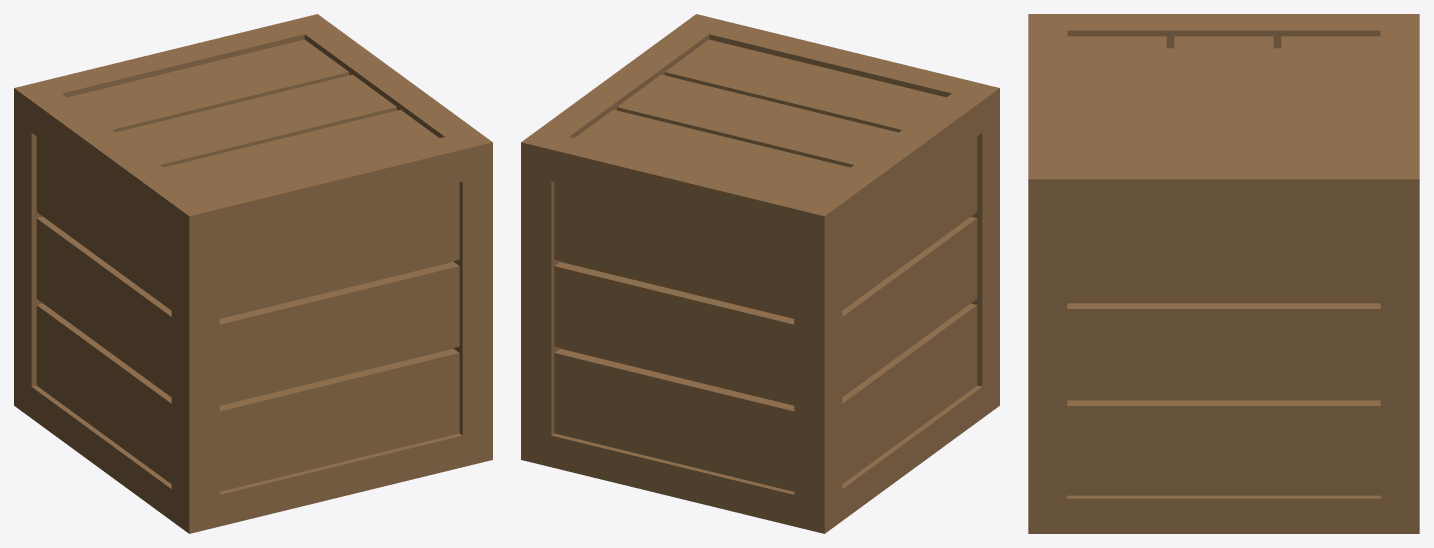
File: crate.glb
The picture shows the model from 3 angles, left to right: view 1: azimuth 30°, elevation 25°; view 2: azimuth 150°, elevation 25°; view 3: azimuth 270°, elevation 25°; orthographic projection. The views are drawn at different scales.
Parts seen in each view (by area): view 1: Crate; view 2: Crate; view 3: Crate.
Boxes of the visible parts, x1,y1,x2,y2 form: Crate: (14, 14, 492, 533); Crate: (521, 14, 999, 533); Crate: (1028, 14, 1419, 533).
Size of the model in its own units: 0.6 by 0.6 by 0.6.
